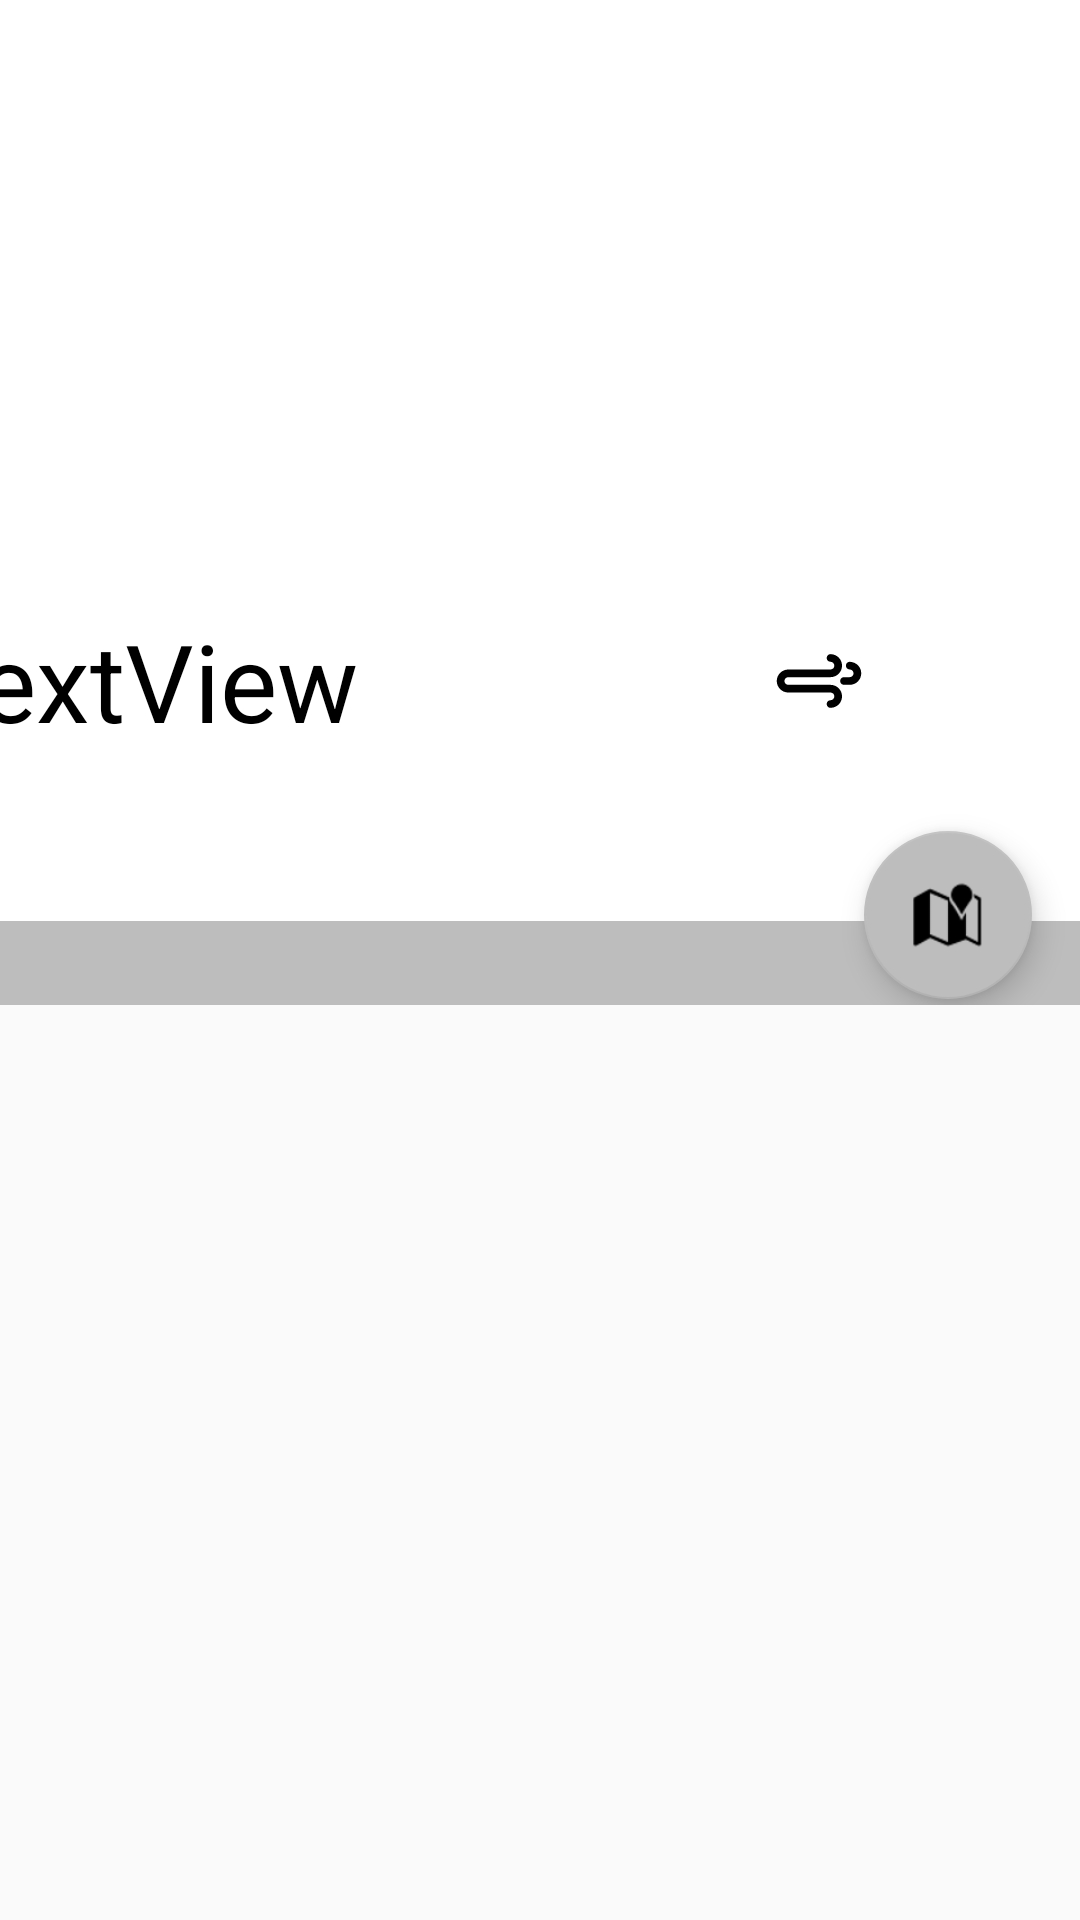

Where to tap for icons on this 1080x1920 app screen, as (x,y):
map: (948,915)
wind: (819,681)
